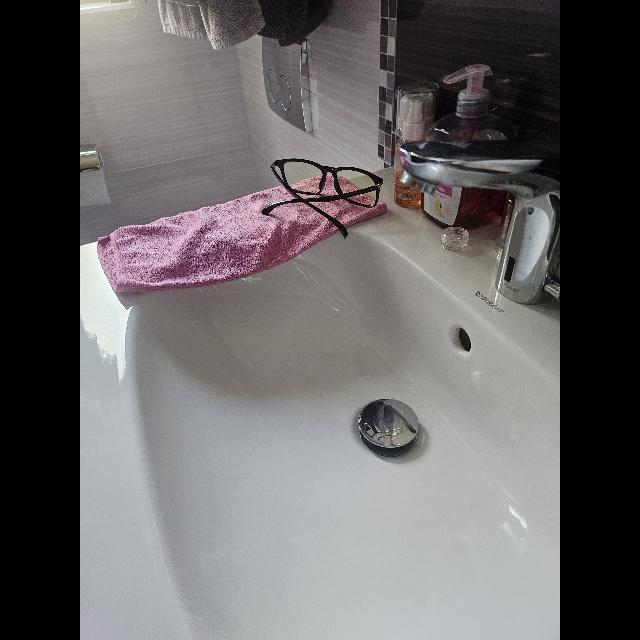glasses: (262, 158, 384, 240)
